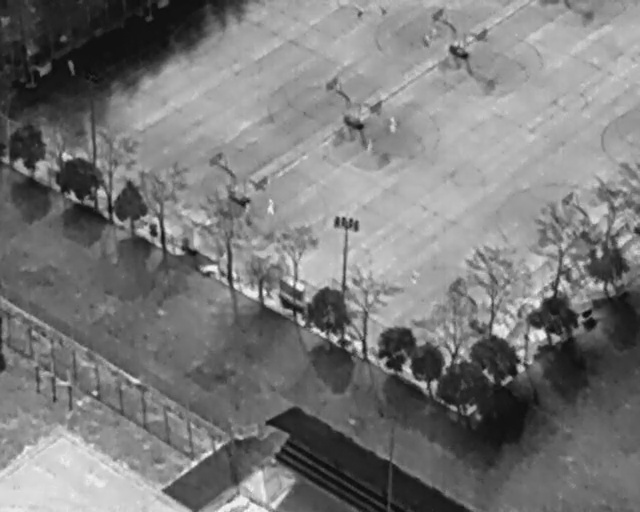Person: (64, 58, 77, 78), (422, 32, 432, 50), (389, 115, 398, 134), (411, 268, 420, 285), (267, 197, 275, 216)
